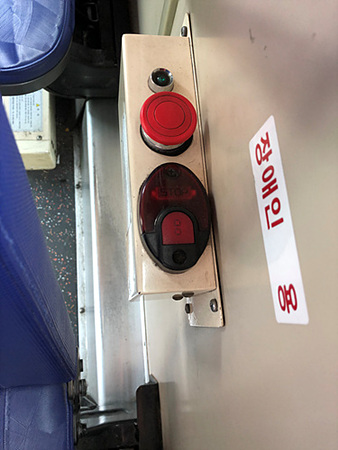bell: (138, 161, 213, 271)
